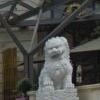Statue: (32, 27, 79, 100)
